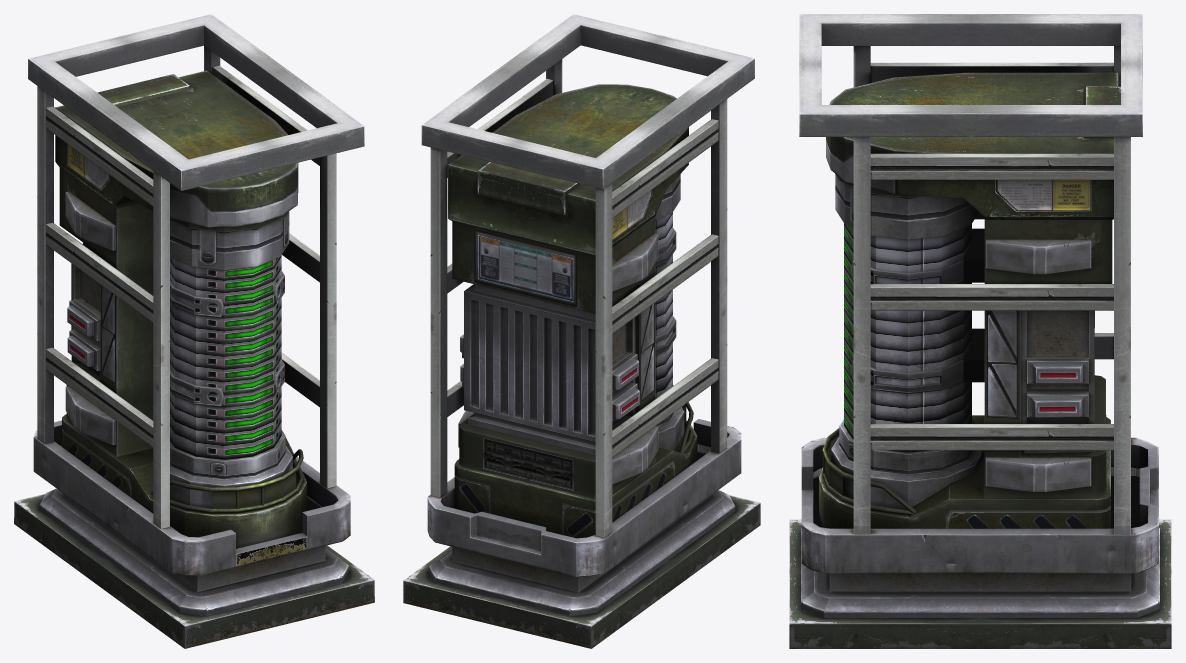
File: pump.glb
The picture shows the model from 3 angles, left to right: view 1: azimuth 30°, elevation 25°; view 2: azimuth 150°, elevation 25°; view 3: azimuth 270°, elevation 25°; orthographic projection. The views are drawn at different scales.
Visible parts, largest first — view 1: Motor; view 2: Motor; view 3: Motor.
Boxes of the visible parts, left/top/right/bottom form: Motor: left=14, top=14, right=374, bottom=648; Motor: left=403, top=14, right=760, bottom=648; Motor: left=789, top=14, right=1171, bottom=648.
Bounding box in the file's own units: 0.7036 × 1.68 × 1.09.
1 material, 1 textured.
